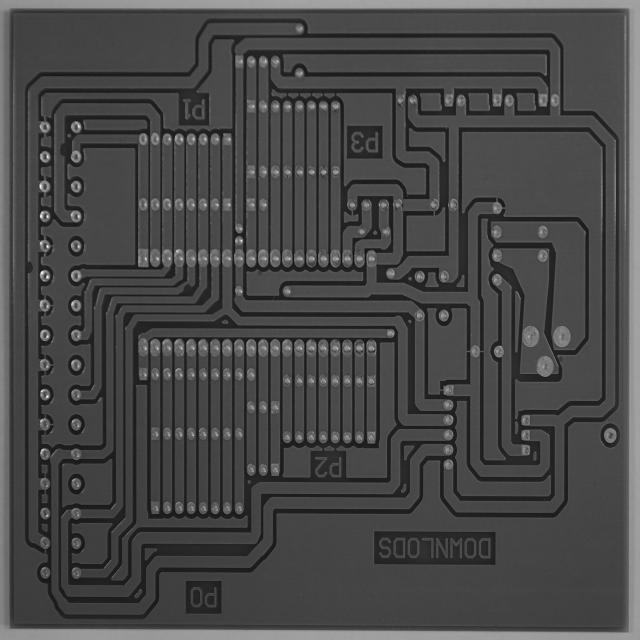mouse_bite: (54, 140, 68, 158), (178, 281, 194, 295), (24, 258, 36, 276)
